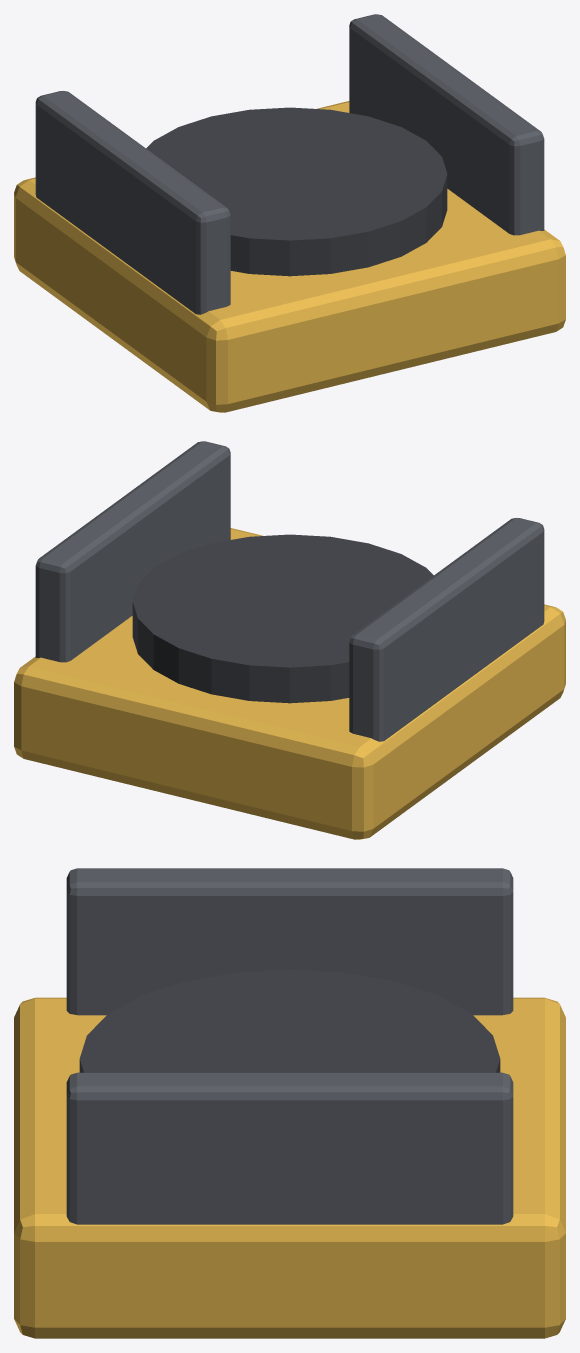
The model's file is slam_button_base.glb.
The picture shows the model from 3 angles, top to bottom: view 1: azimuth 30°, elevation 25°; view 2: azimuth 150°, elevation 25°; view 3: azimuth 270°, elevation 25°; orthographic projection. The views are drawn at different scales.
Parts seen in each view (by area): view 1: SlamHousing, SlamCollar, GuardLeft, GuardRight; view 2: SlamHousing, SlamCollar, GuardLeft, GuardRight; view 3: SlamHousing, GuardRight, GuardLeft, SlamCollar.
Boxes of the visible parts, x1,y1,x2,y2 form: SlamHousing: [14, 101, 565, 412]; SlamCollar: [146, 107, 447, 276]; GuardLeft: [35, 91, 230, 314]; GuardRight: [349, 14, 544, 235]; SlamHousing: [14, 528, 565, 839]; SlamCollar: [132, 534, 433, 703]; GuardLeft: [349, 518, 544, 741]; GuardRight: [35, 441, 230, 662]; SlamHousing: [14, 997, 565, 1338]; GuardRight: [66, 1072, 513, 1224]; GuardLeft: [66, 868, 513, 1015]; SlamCollar: [79, 969, 500, 1072].
Size of the model in its own units: 0.105 by 0.053 by 0.105.
